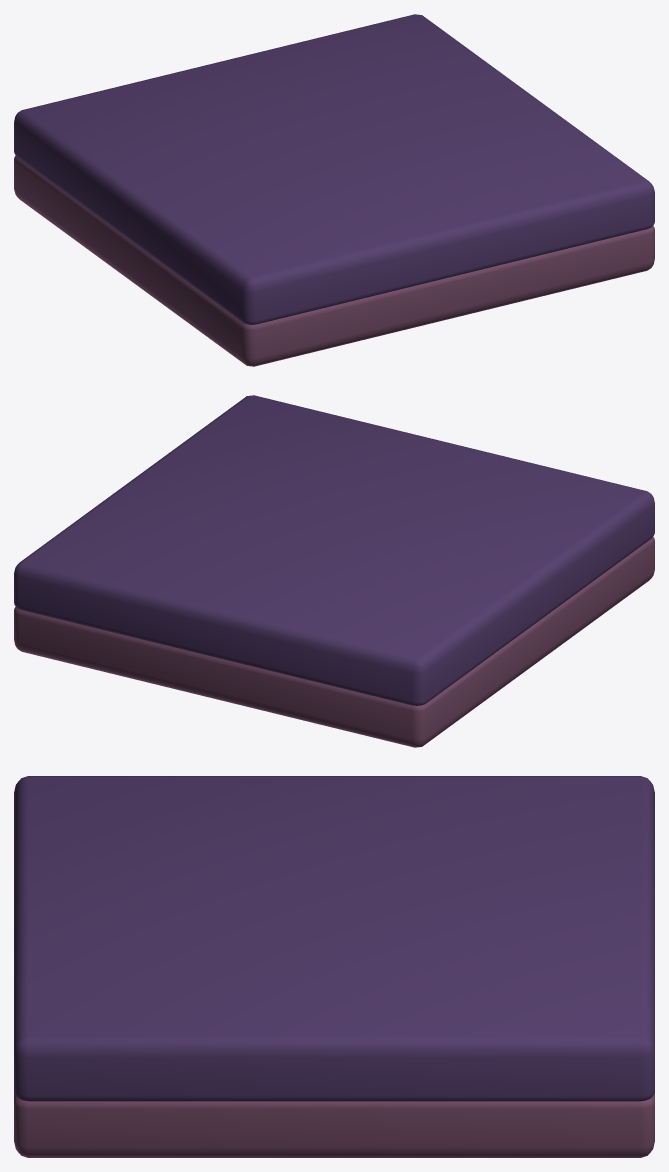
Rendered from Platform_PoppyPlaytimeTheme.fbx.
3 views of the same model, one above another, from view 1: azimuth 30°, elevation 25°; view 2: azimuth 150°, elevation 25°; view 3: azimuth 270°, elevation 25° (orthographic). The views are drawn at different scales.
Visible parts, largest first — view 1: tileLarge_teamBlue; view 2: tileLarge_teamBlue; view 3: tileLarge_teamBlue.
Part boxes in pixels (x1,y1,x2,y2): tileLarge_teamBlue: [14, 14, 654, 366]; tileLarge_teamBlue: [14, 395, 654, 747]; tileLarge_teamBlue: [14, 776, 654, 1157].
Bounding box in the file's own units: 4.8 × 1 × 4.8.
